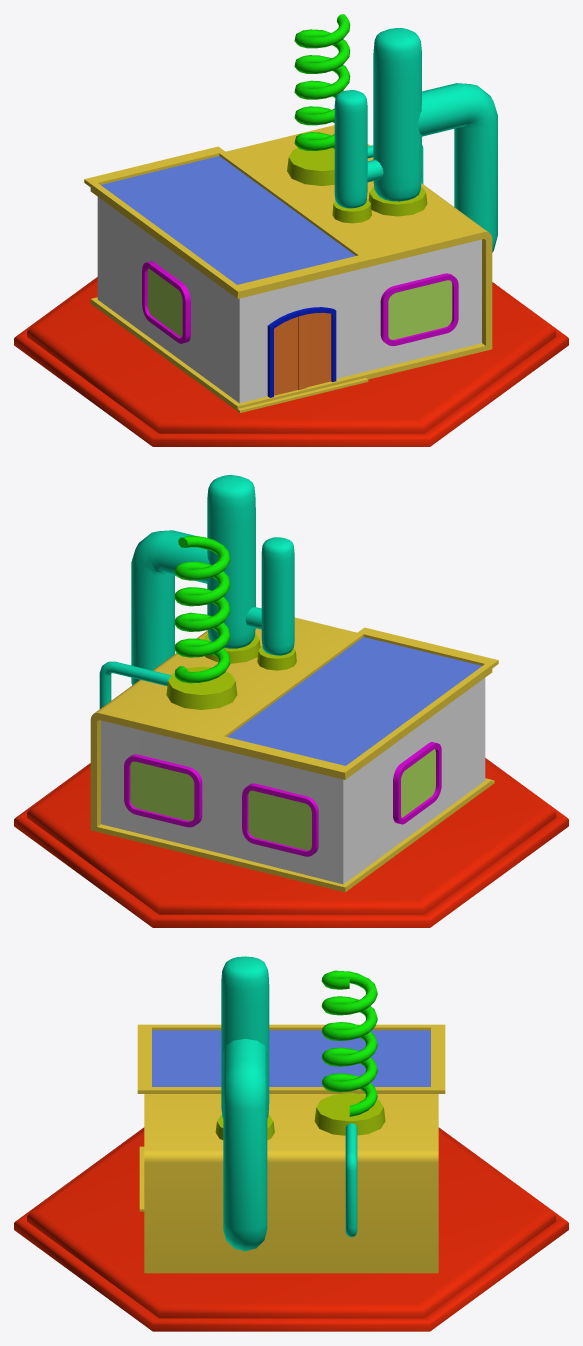
The model's file is ElecGeneratorLvl2.fbx.
3 views of the same model, one above another, from view 1: azimuth 30°, elevation 25°; view 2: azimuth 150°, elevation 25°; view 3: azimuth 270°, elevation 25° (orthographic).
Parts seen in each view (by area): view 1: Building, HexagonBase, Details, Building.001; view 2: Building, HexagonBase, Details; view 3: Building, HexagonBase, Details.
Boxes of the visible parts, <box> form: Building: <box>84,125,492,412</box>; HexagonBase: <box>14,277,568,446</box>; Details: <box>287,14,497,252</box>; Building.001: <box>274,312,331,395</box>; Building: <box>90,617,498,892</box>; HexagonBase: <box>14,758,568,927</box>; Details: <box>99,475,296,709</box>; Building: <box>137,1024,445,1273</box>; HexagonBase: <box>14,1127,568,1331</box>; Details: <box>215,956,385,1251</box>.
Bounding box in the file's own units: 327 × 232 × 377.
